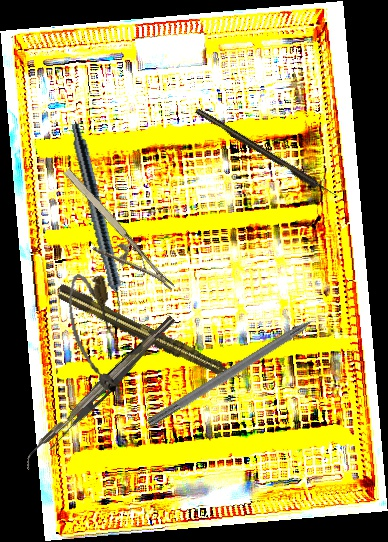Cannula: (62, 269, 125, 399)
Chopper: (17, 315, 183, 472)
Dressing Forceps: (40, 316, 171, 454)
Handpiece: (54, 281, 249, 390), (64, 121, 132, 325)
Hook Surgical: (146, 303, 338, 430), (194, 106, 340, 202)
Needle Holder: (43, 165, 176, 312)
